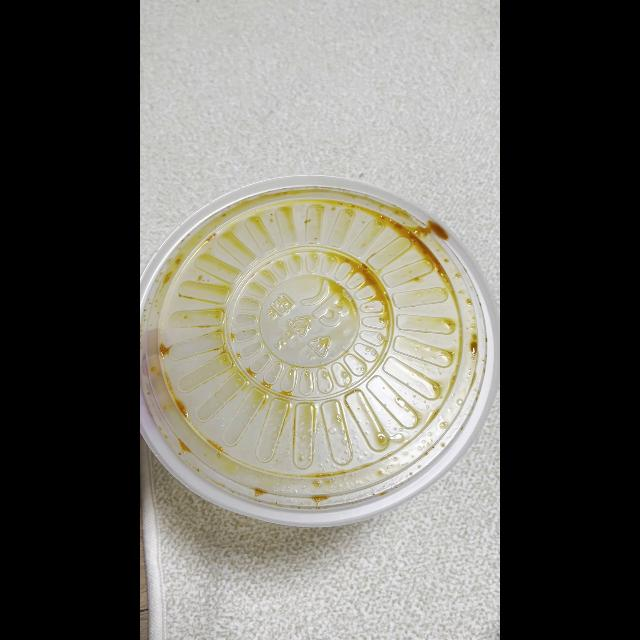dirty: (142, 176, 492, 516)
